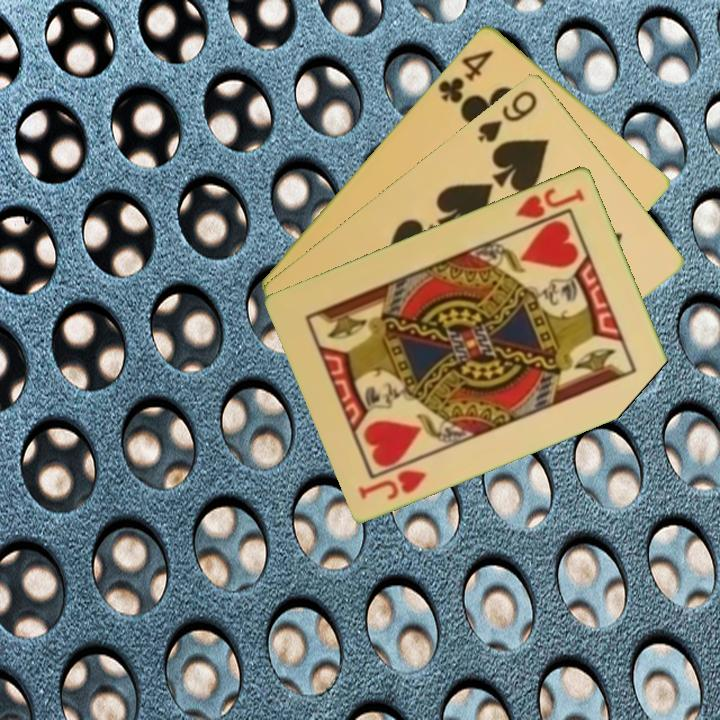4c: (434, 45, 496, 106)
9s: (474, 86, 540, 145)
Jh: (512, 183, 588, 233), (355, 465, 430, 503)
